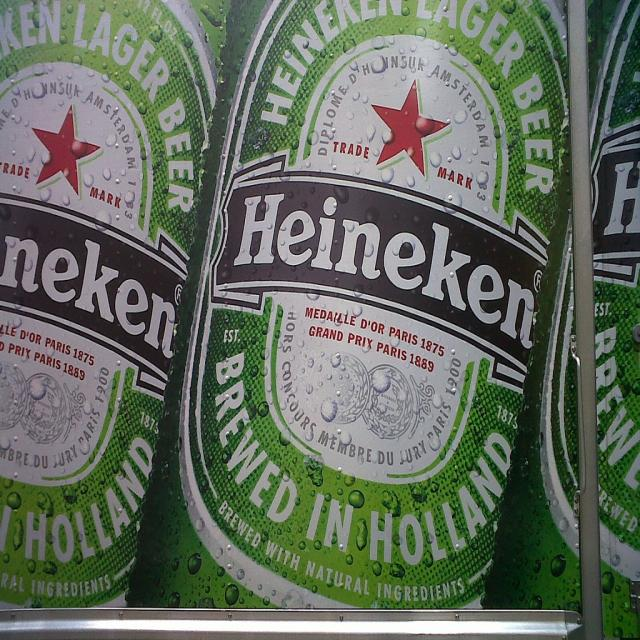heineken: (178, 2, 574, 612), (2, 2, 217, 617), (541, 2, 640, 583)
